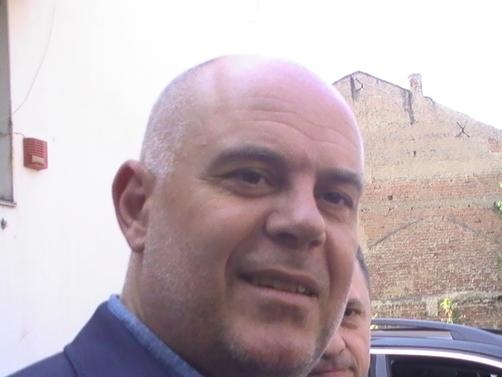without_mask: (133, 91, 360, 364)
